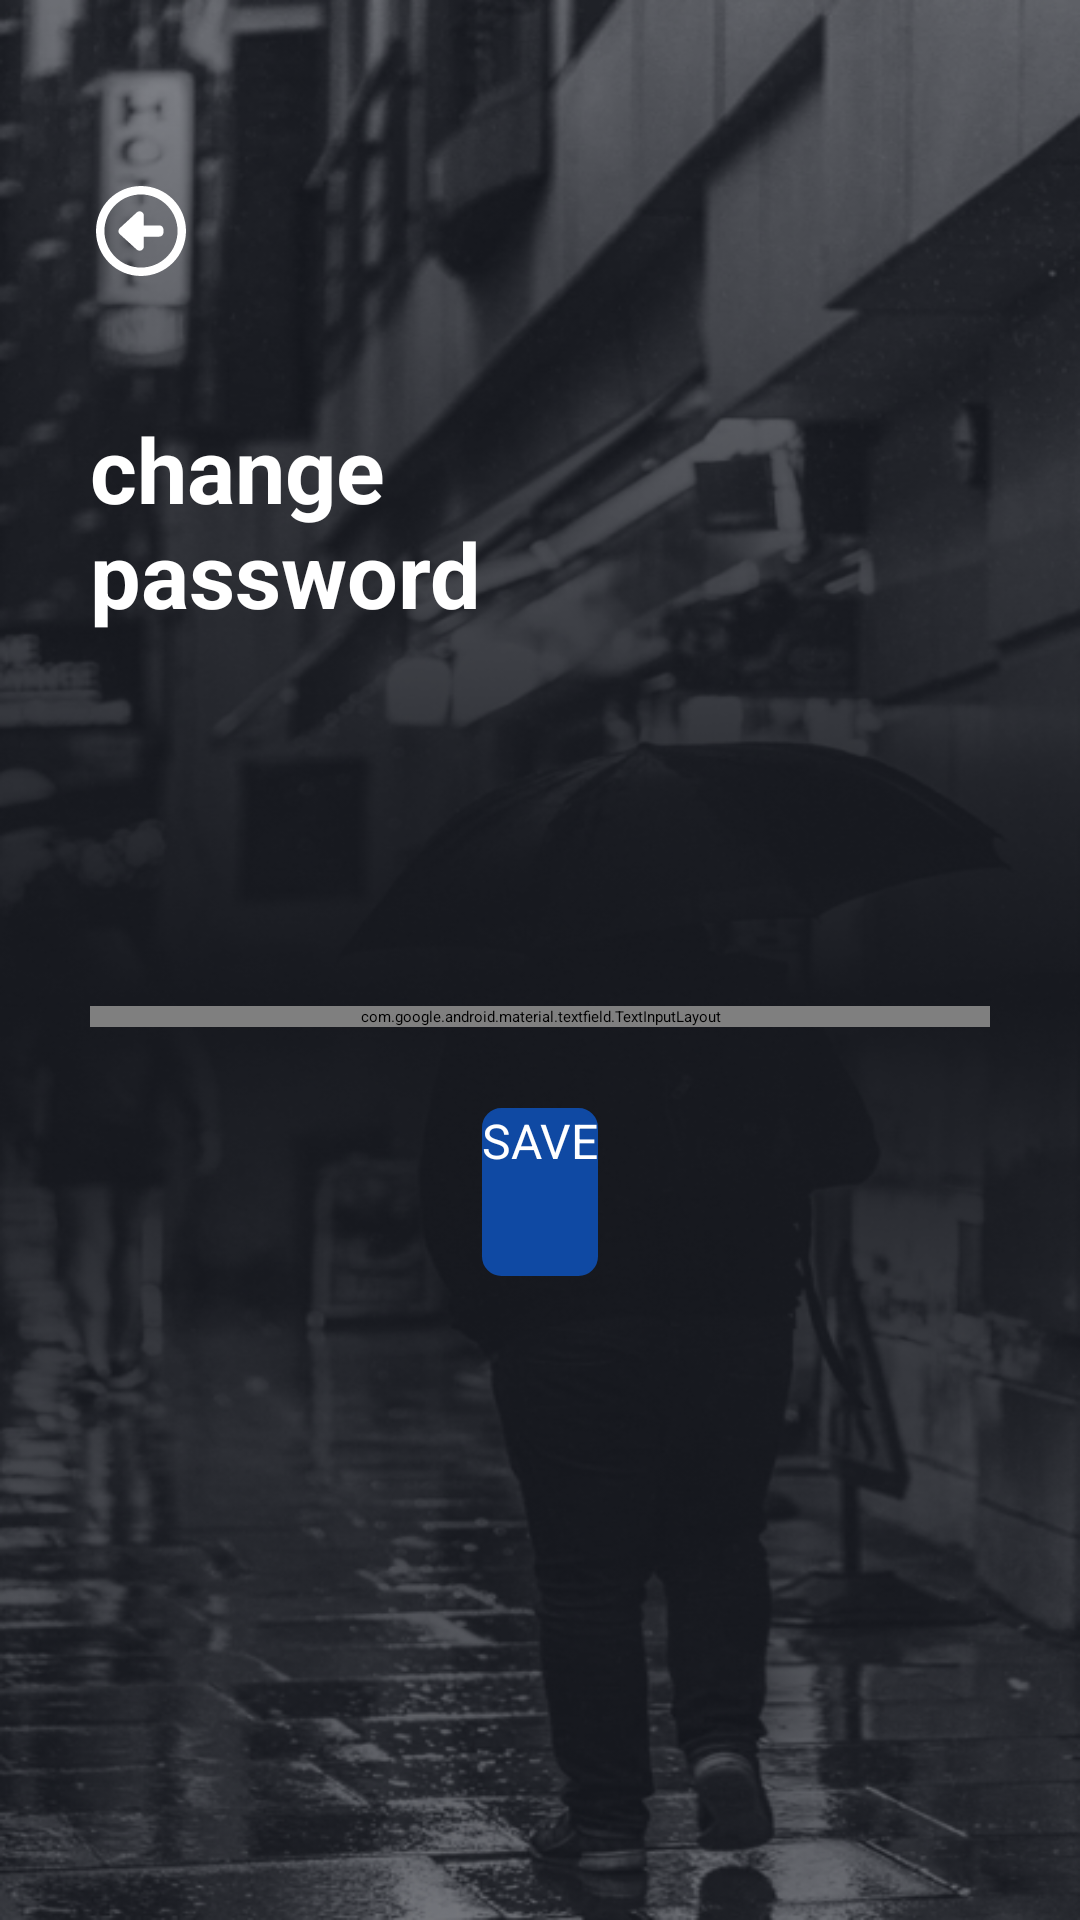

Icons on this 1080 × 1920 Android screen, each with the point to tap as point (x, y):
back: point (141, 231)
